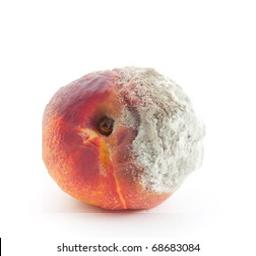Peach Rotten: (42, 62, 207, 214)
